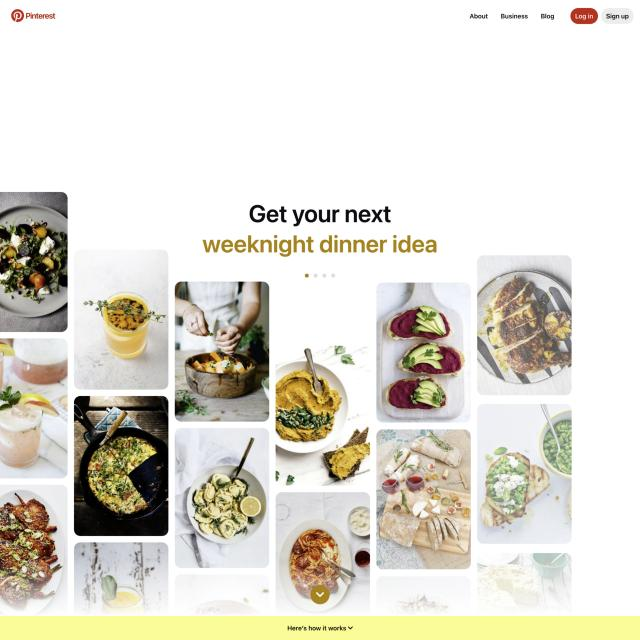CheckBox: (600, 8, 634, 24), (570, 8, 598, 24), (312, 586, 328, 604)
alert: (282, 624, 358, 634)
bag: (0, 0, 640, 29)
card: (0, 187, 639, 619)
data feed: (606, 12, 630, 21), (501, 12, 528, 20), (469, 13, 489, 20), (575, 13, 594, 20), (540, 12, 555, 20)
date picker: (8, 7, 58, 26)
decoration: (466, 10, 556, 22)
dropdown: (301, 272, 337, 280)
image: (198, 199, 440, 258)
